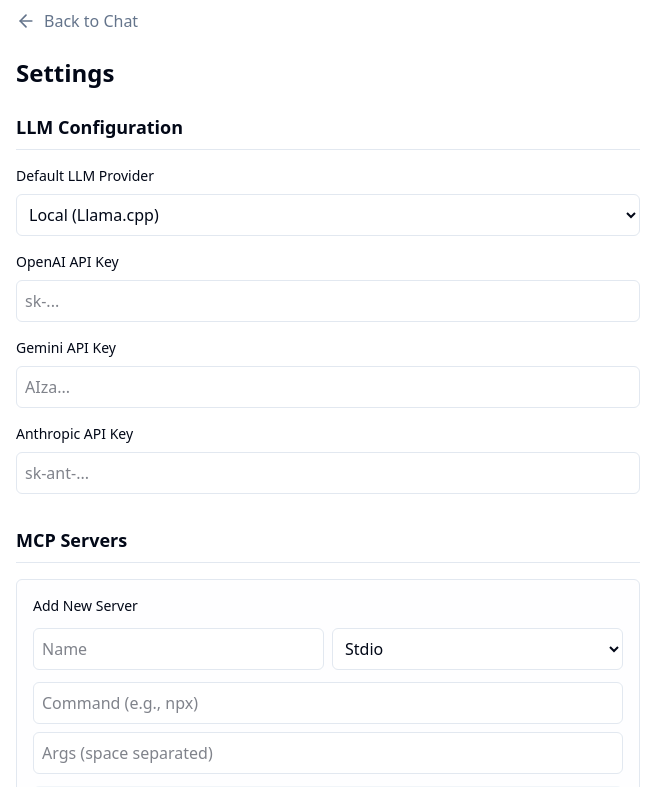
Test: Settings Component › submits form successfully
In the password field with placeholder "sk-...": (328, 301) [16,280,640,322], type "test-key"
(page scrolled)
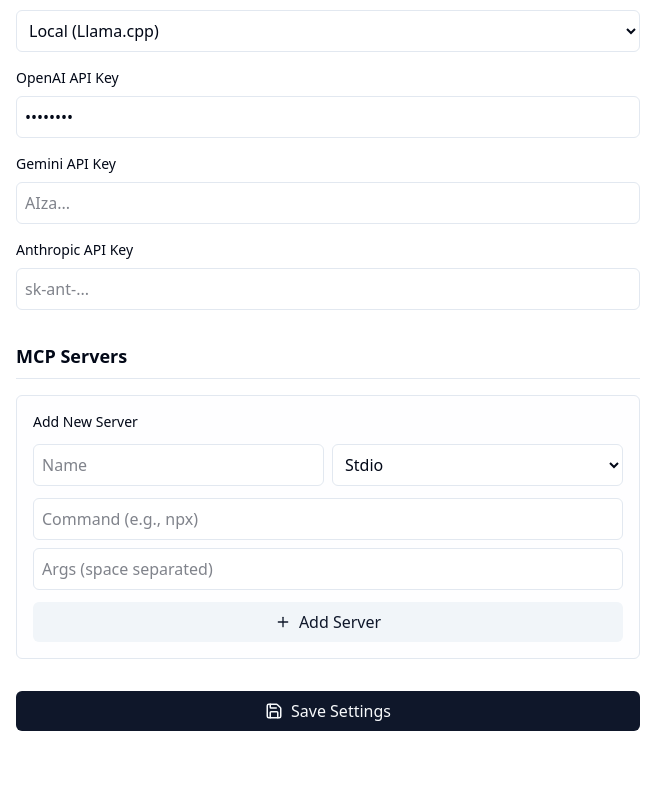
Click the button "Save Settings": (328, 711) [16,691,640,731]
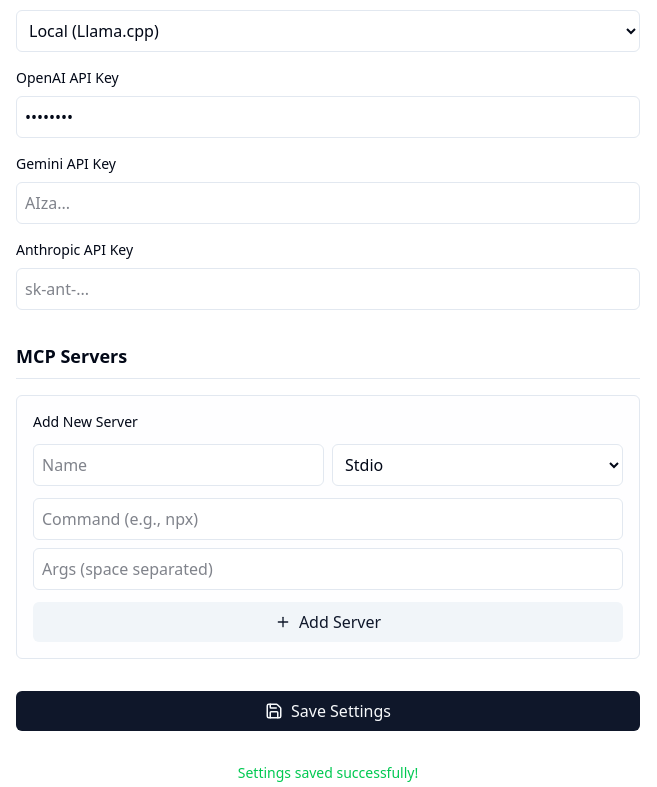
expect the text "Settings saved successfully!" is shown: met, box [238,763,418,782]
